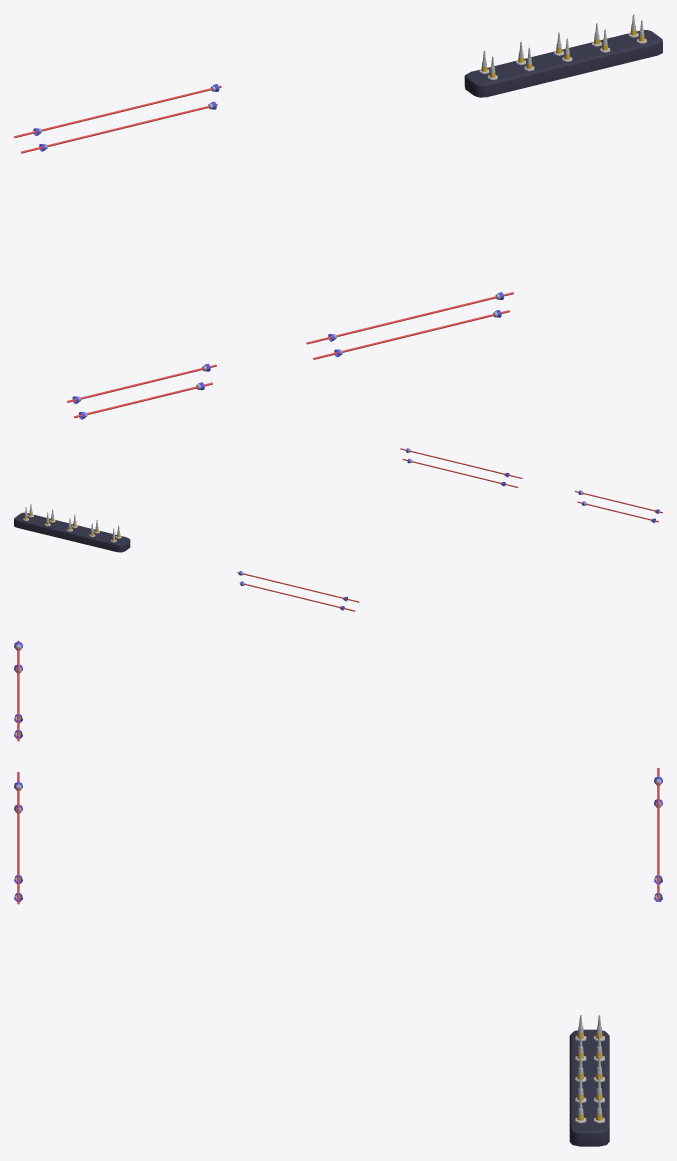
The model's file is Level24_Objects.fbx.
3 renders of one model, top to bottom at view 1: azimuth 30°, elevation 25°; view 2: azimuth 150°, elevation 25°; view 3: azimuth 270°, elevation 25°, orthographic. The views are drawn at different scales.
Parts seen in each view (by area): view 1: Base; view 2: Base; view 3: Base.
Part boxes in pixels (x1,y1,x2,y2): Base: (464, 30, 662, 97); Base: (14, 512, 130, 552); Base: (569, 1029, 609, 1146).
Size of the model in its own units: 453 by 20.83 by 268.
